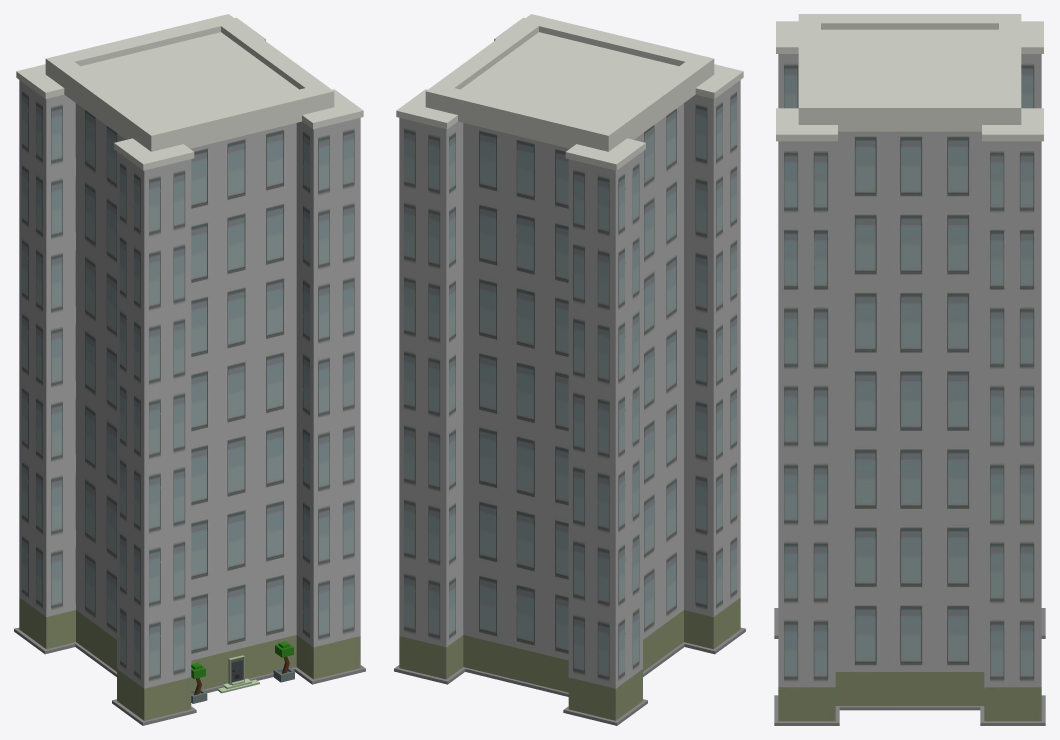
The model's file is Corner Pilars Basic Seven Floor.glb.
3 views of the same model, side by side, from view 1: azimuth 30°, elevation 25°; view 2: azimuth 150°, elevation 25°; view 3: azimuth 270°, elevation 25° (orthographic). The views are drawn at different scales.
Visible parts, largest first — view 1: Corner Pilars Basic Seven Floor; view 2: Corner Pilars Basic Seven Floor; view 3: Corner Pilars Basic Seven Floor.
Boxes of the visible parts, bbox=[...] form: Corner Pilars Basic Seven Floor: bbox=[14, 14, 365, 725]; Corner Pilars Basic Seven Floor: bbox=[394, 14, 745, 725]; Corner Pilars Basic Seven Floor: bbox=[774, 14, 1045, 725].
Size of the model in its own units: 0.7373 by 1.82 by 0.7373.
1 material, 1 textured.
